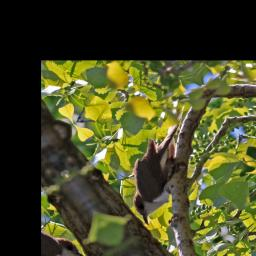Cuckoo: (99, 116, 232, 227)
